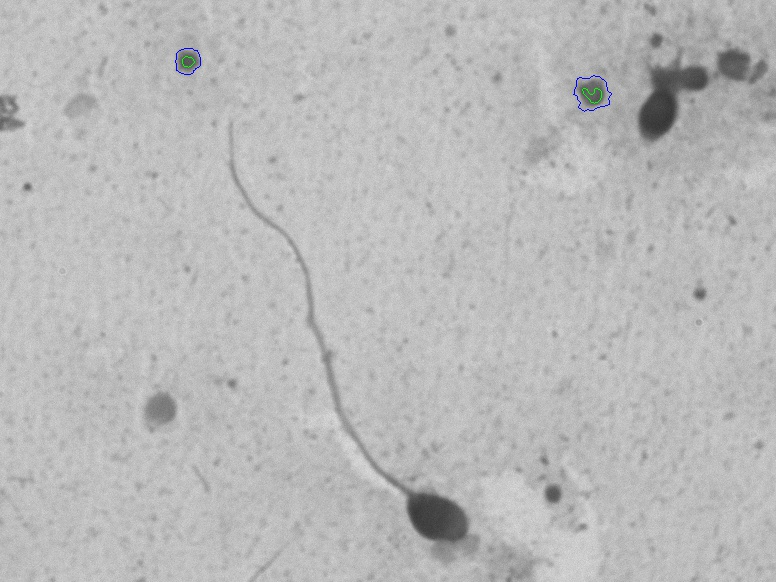Abnormal: (163, 120, 493, 553)
